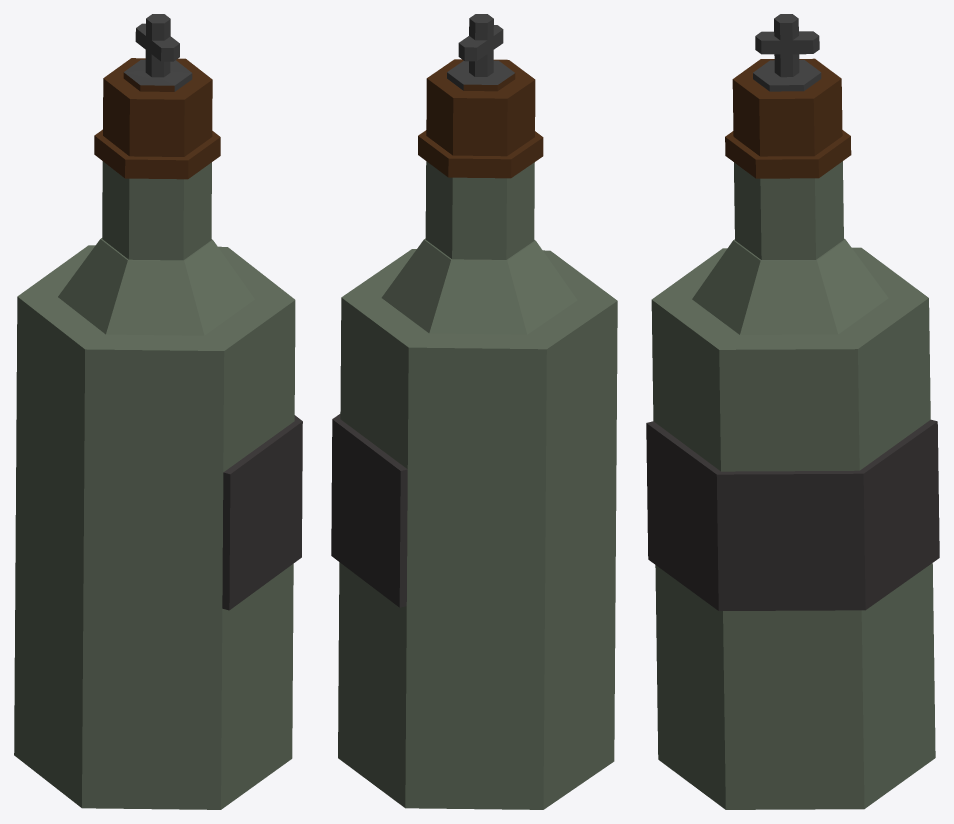
Rendered from Wine Bottle 3.fbx.
3 views of the same model, side by side, from view 1: azimuth 30°, elevation 25°; view 2: azimuth 150°, elevation 25°; view 3: azimuth 270°, elevation 25° (orthographic).
Parts seen in each view (by area): view 1: Wine Bottle 3; view 2: Wine Bottle 3; view 3: Wine Bottle 3.
Boxes of the visible parts, box(x1,y1,x2,y2) form: Wine Bottle 3: box(14, 14, 302, 809); Wine Bottle 3: box(331, 14, 617, 809); Wine Bottle 3: box(646, 14, 939, 809).
Size of the model in its own units: 0.4647 by 1.53 by 0.5467.
